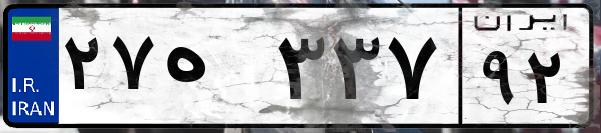2: (57, 26, 110, 100), (525, 38, 570, 115)
3: (270, 28, 330, 110), (330, 28, 385, 110)
7: (385, 28, 445, 110), (110, 28, 158, 98)
9: (475, 38, 525, 113)
ه: (158, 20, 270, 120)
